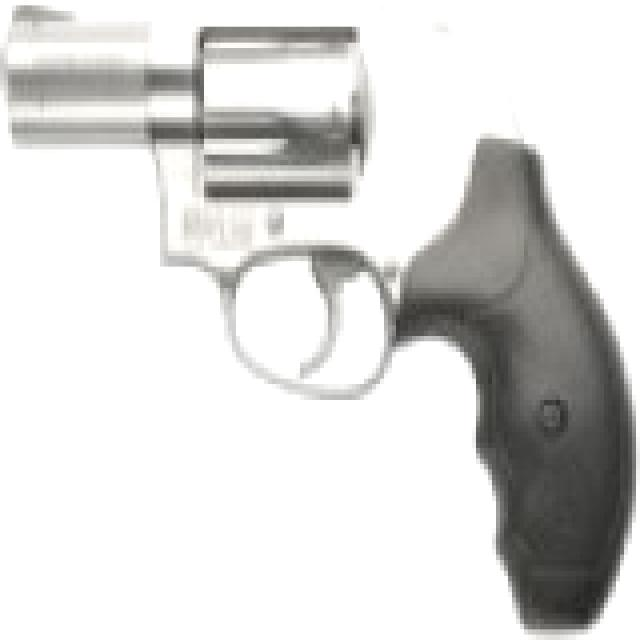pistol: (12, 0, 640, 629)
